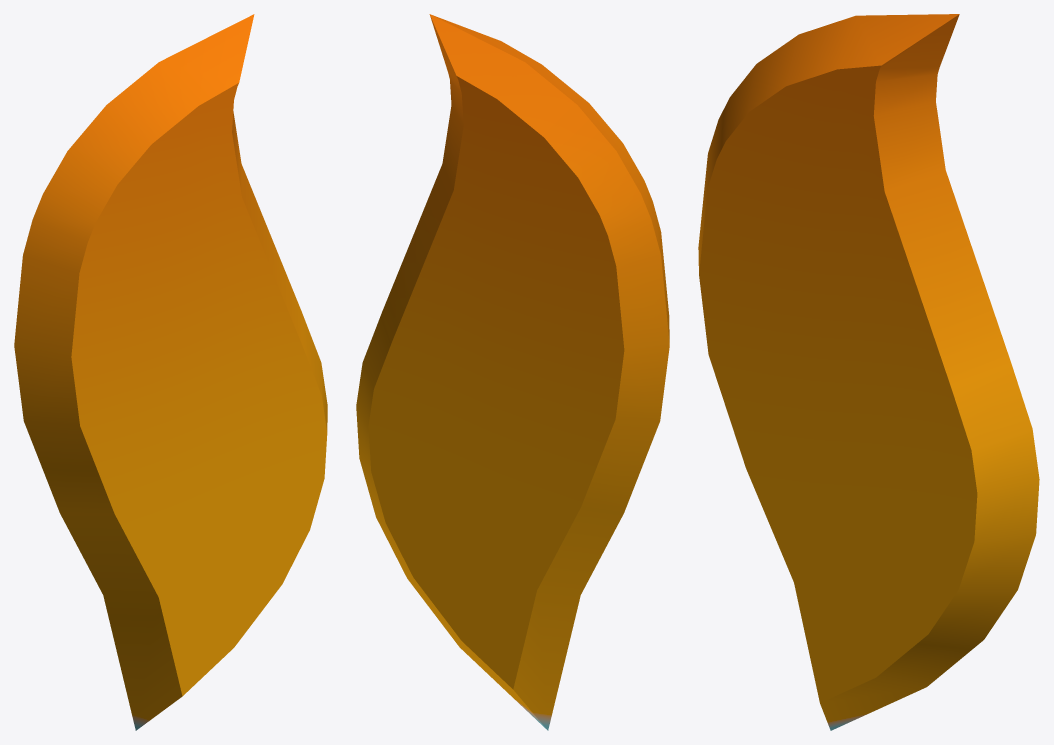
File: FlameShape01.fbx
The picture shows the model from 3 angles, left to right: view 1: azimuth 30°, elevation 25°; view 2: azimuth 150°, elevation 25°; view 3: azimuth 330°, elevation 25°; orthographic projection. The views are drawn at different scales.
Visible parts, largest first — view 1: FlameShape01; view 2: FlameShape01; view 3: FlameShape01.
Boxes of the visible parts, x1=… form: FlameShape01: x1=14, y1=14, x2=327, y2=730; FlameShape01: x1=356, y1=14, x2=669, y2=730; FlameShape01: x1=698, y1=14, x2=1039, y2=730.
Size of the model in its own units: 44.77 by 93.86 by 11.09.
1 material, 1 textured.
